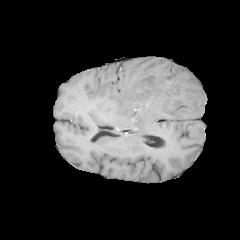glioma: (106, 67, 201, 134)
